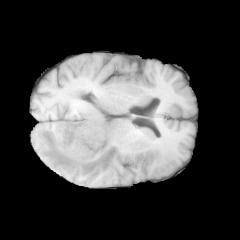glioma: (39, 88, 119, 177)
